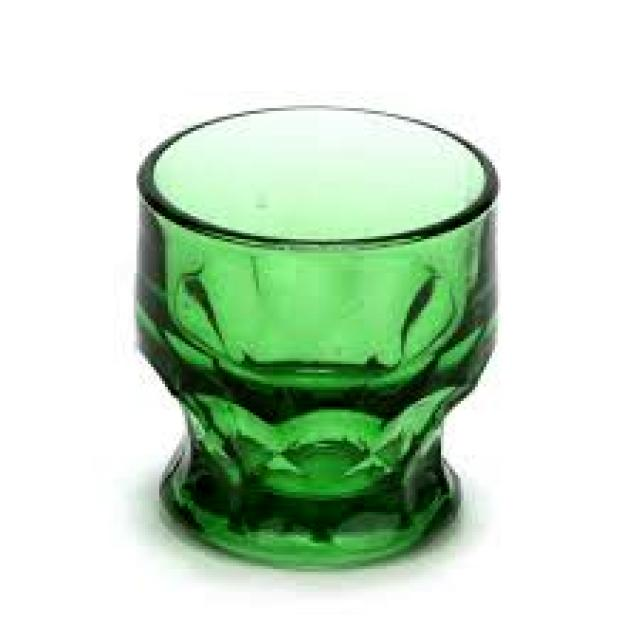Glass: (126, 101, 500, 575)
